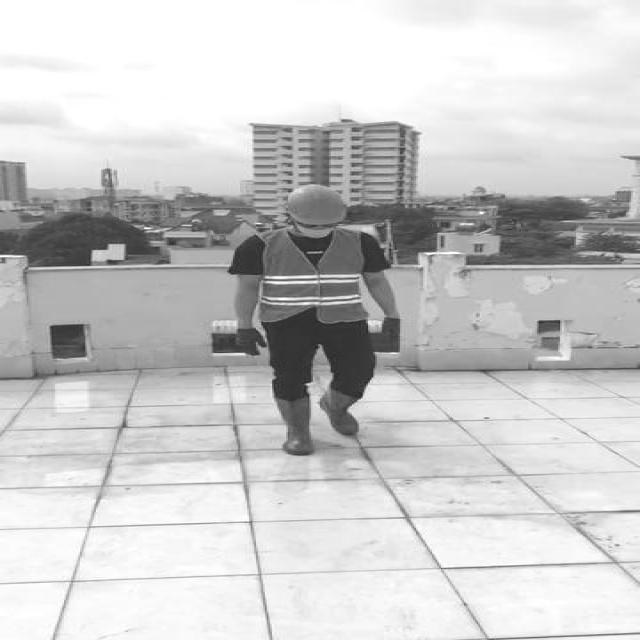boots: (272, 397, 318, 455), (318, 384, 366, 436)
face_mask: (294, 218, 339, 238)
hand_glove: (234, 328, 268, 355), (380, 319, 406, 339)
head_helmet: (283, 183, 350, 226)
person: (229, 180, 409, 462)
vest: (252, 229, 368, 323)
